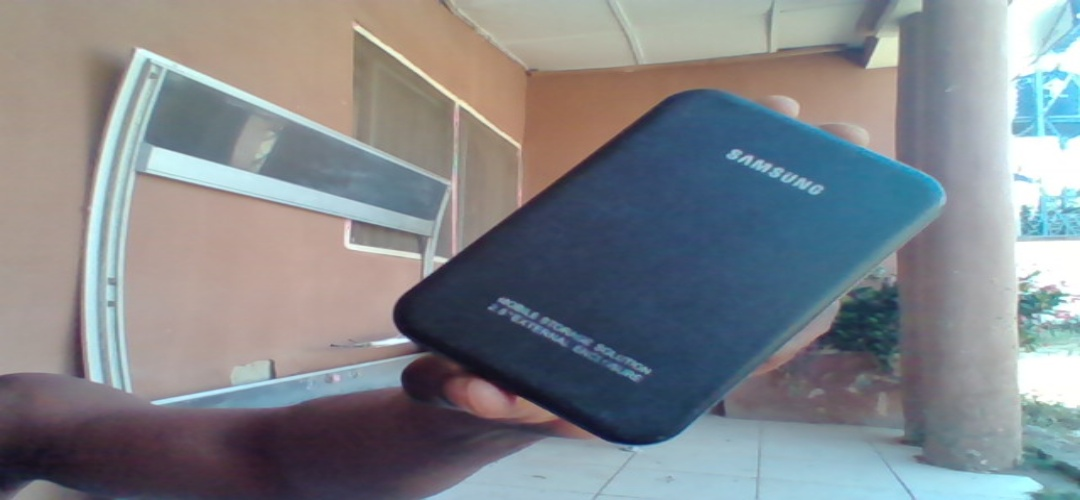hard_disk_case: (386, 69, 950, 450)
